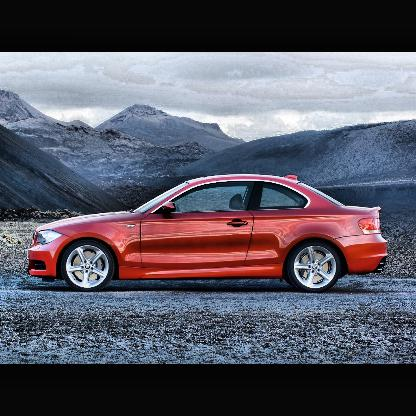BMW 1 Series Coupe 2012: (21, 160, 397, 324)
